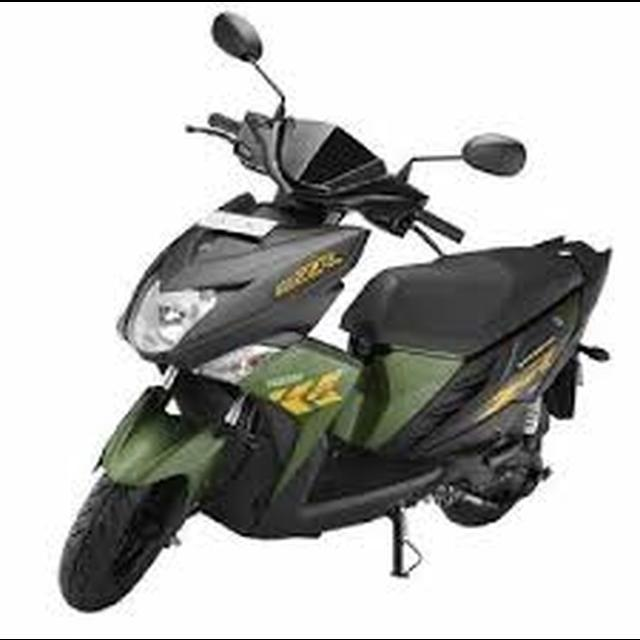motorcycle: (55, 9, 617, 615)
